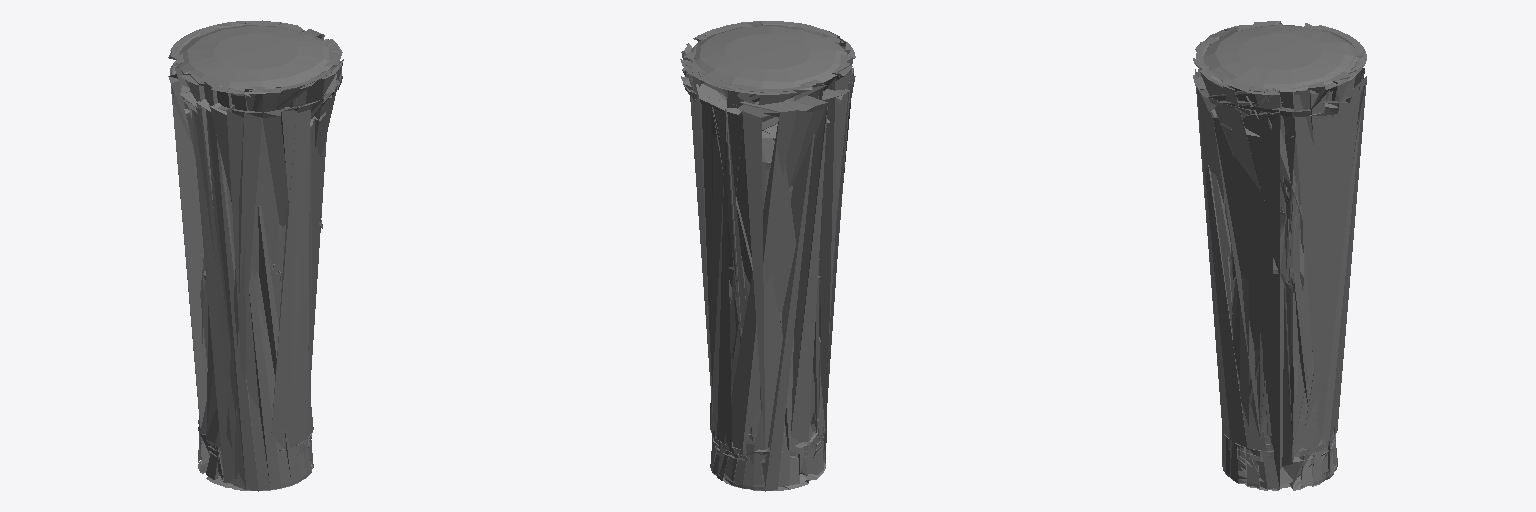
robot.urdf — object:
<?xml version="1.0"?>
<robot name="object">
  <link name="object">
    <visual>
      <origin xyz="0 0 0"/>
      <geometry>
        <mesh
          filename="../../mesh/oakink_virtual/flashlight_9.stl" />
      </geometry>
      <material name="mat">
        <color rgba="0.5 0.5 0.5 1"/>
      </material>
    </visual>

    <collision>
      <origin xyz="0 0 0"/>
      <geometry>
        <mesh
          filename="../../mesh/oakink_virtual/flashlight_9.stl" />
      </geometry>
    </collision>
  </link>
</robot>

--- Facts derived from the render (not from the file) ---
3 views of the same robot in one strip: view 1: azimuth 30°, elevation 25°; view 2: azimuth 150°, elevation 25°; view 3: azimuth 270°, elevation 25° (orthographic).
Model object with 1 links and 0 joints (none), rooted at object, posed every joint at zero.
Visible links, largest first — view 1: object; view 2: object; view 3: object.
Boxes of the visible links, bbox=[...] form: object: bbox=[168, 20, 343, 491]; object: bbox=[680, 21, 855, 491]; object: bbox=[1193, 21, 1366, 490].
Bounding box of the posed robot: 0.0544 × 0.0541 × 0.1423 m (x, y, z).
Meshes: 1 distinct files referenced, 1 mesh visuals loaded (1 binary STL).